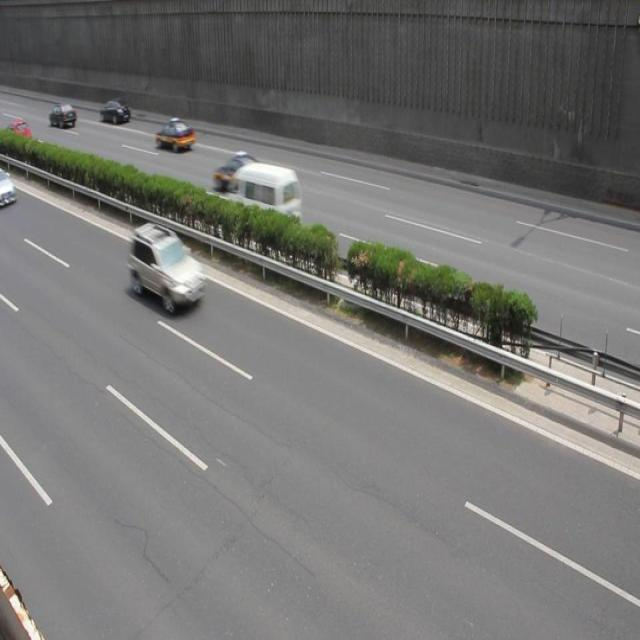car: (128, 220, 205, 316), (212, 151, 277, 200), (153, 118, 197, 153), (48, 102, 78, 131), (99, 101, 132, 127)
truck: (218, 163, 302, 239)
